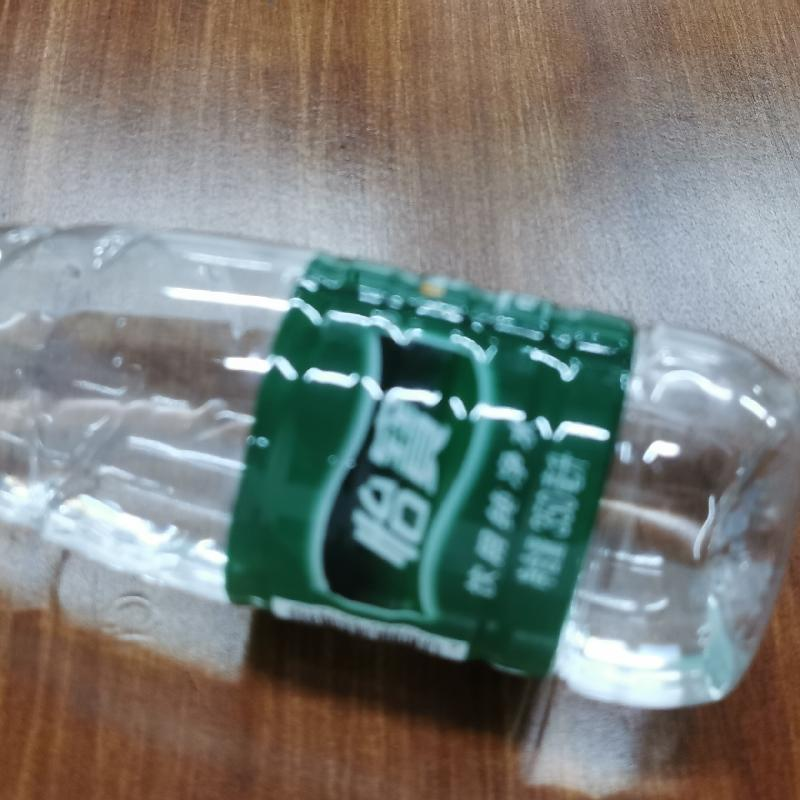bottles: (1, 195, 798, 708)
